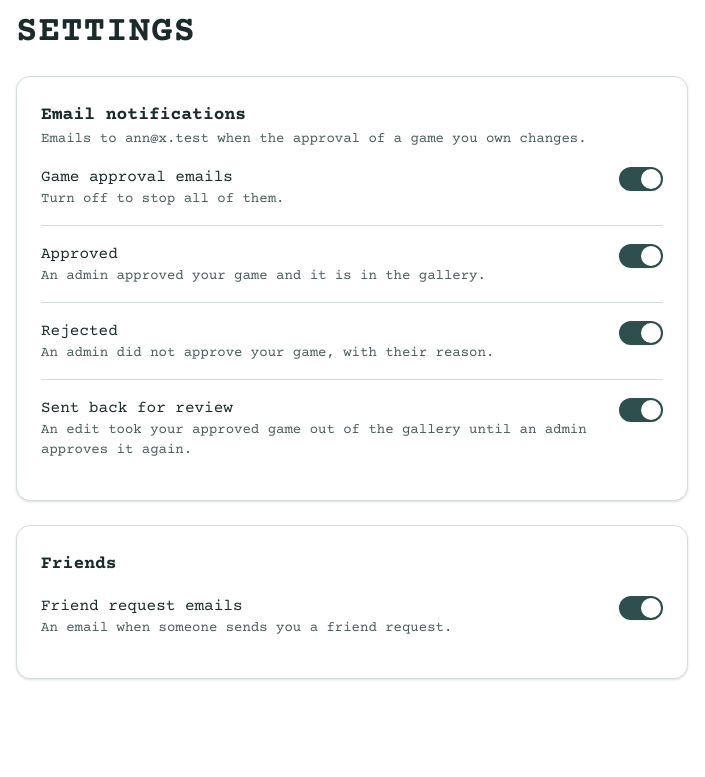
Scenario: SettingsPage › puts the switch back and says so when saving fails
Click the 2nd switch named "approved" at (641, 256), box [619, 244, 663, 268]
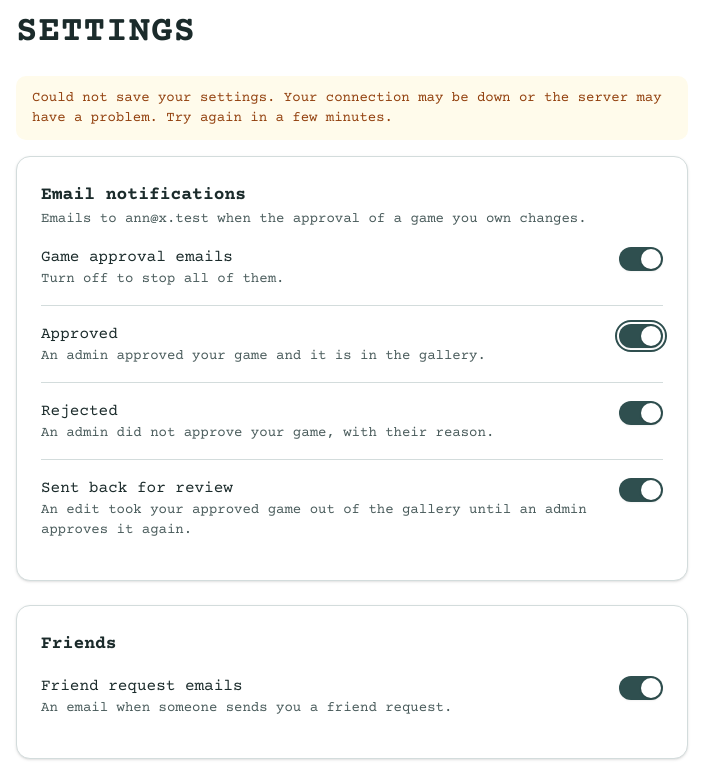
Now the text "Could not save your settings" is shown, box [16, 76, 688, 140]
